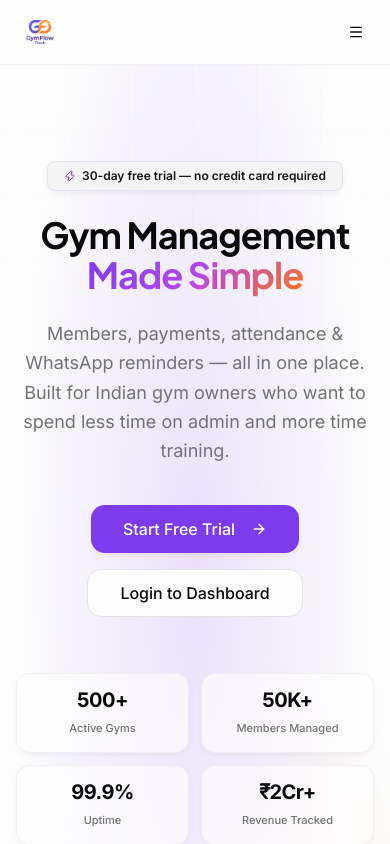
Test: HomePage (Landing Page) › toggles mobile menu on button click
Click the button named "Open menu" at (356, 32), box [338,14,374,50]
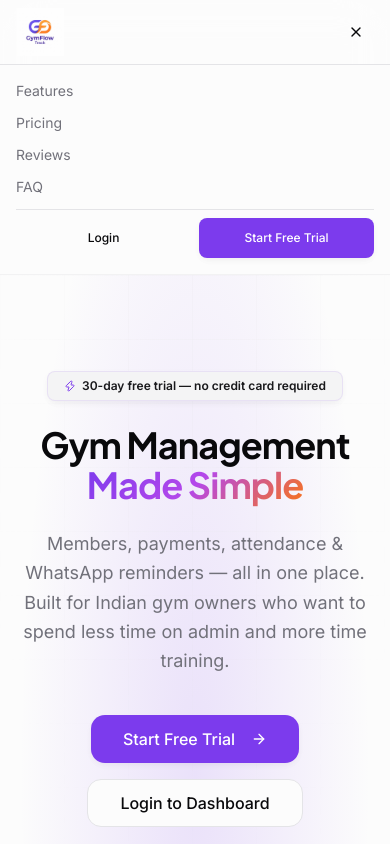
Check: the button named "Close menu" is shown, box [338,14,374,50]
